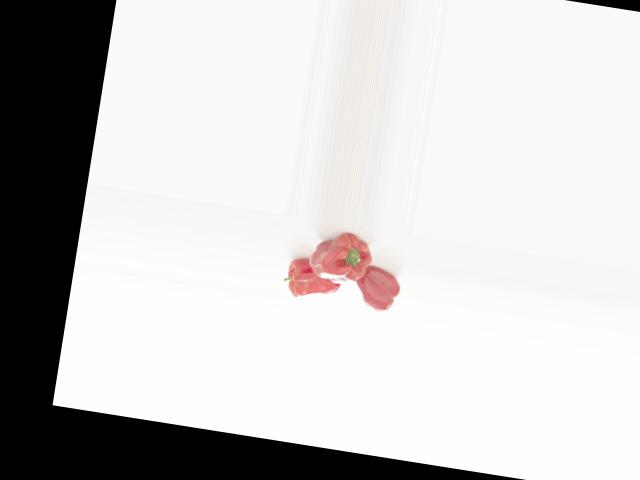bell_pepper: (355, 262, 405, 314)
